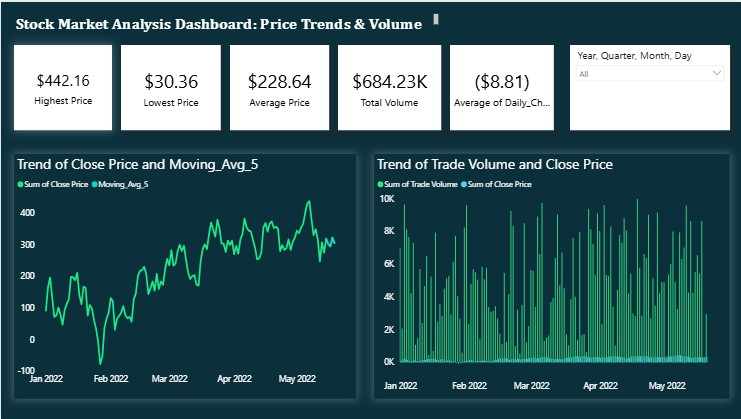

What the dashboard file says about the page in this screenshot:
{"tool":"powerbi","page":{"name":"Page 1","canvas":[1280,720],"ordinal":0},"visuals":[{"type":"textbox","box":[0,16.3,759.2,42.9],"z":0},{"type":"card","fields":{"Values":["Date_Table.Average Price"]},"box":[394.8,74.1,170.7,146.6],"z":1000},{"type":"card","fields":{"Values":["Date_Table.Total Volume"]},"box":[581.6,73.5,177.6,146.9],"z":2000},{"type":"card","fields":{"Values":["Date_Table.Highest Price"]},"box":[22.4,73.5,169.4,146.9],"z":3000},{"type":"card","fields":{"Values":["Date_Table.Lowest Price"]},"box":[206.9,74.1,172.4,146.6],"z":4000},{"type":"slicer","fields":{"Values":["Date_Table.Date.Variation.Date Hierarchy.Year","Date_Table.Date.Variation.Date Hierarchy.Quarter","Date_Table.Date.Variation.Date Hierarchy.Month","Date_Table.Date.Variation.Date Hierarchy.Day"]},"box":[981,74.1,275.9,146.6],"z":5000},{"type":"lineChart","title":"Trend of Close Price and Moving_Avg_5 ","fields":{"Category":["Stock_Prices.Date"],"Y":["Sum(Stock_Prices.Close Price)","Stock_Prices.Moving_Avg_5"]},"box":[21.8,262,589.6,421.6],"z":6000},{"type":"clusteredColumnChart","title":"Trend of Trade Volume and  Close Price ","fields":{"Category":["Stock_Prices.Date"],"Y":["Sum(Stock_Prices.Trade Volume)","Sum(Stock_Prices.Close Price)"]},"box":[643.4,262,613.1,421.6],"z":7000},{"type":"card","fields":{"Values":["Avg(Stock_Prices.Daily_Change)"]},"box":[774.1,74.1,179.3,146.6],"z":8000}]}

Visuals, with their boxes in screenshot pixels (x1, y1, x2, y2), scaled from the page's 1280x720 canvas onto the 741x419 screenshot:
textbox: left=0, top=9, right=440, bottom=34
card - Date_Table.Average Price: left=229, top=43, right=327, bottom=128
card - Date_Table.Total Volume: left=337, top=43, right=440, bottom=128
card - Date_Table.Highest Price: left=13, top=43, right=111, bottom=128
card - Date_Table.Lowest Price: left=120, top=43, right=220, bottom=128
slicer - Date_Table.Date.Variation.Date Hierarchy.Year x Date_Table.Date.Variation.Date Hierarchy.Quarter: left=568, top=43, right=728, bottom=128
"Trend of Close Price and Moving_Avg_5 " lineChart: left=13, top=152, right=354, bottom=398
"Trend of Trade Volume and  Close Price " clusteredColumnChart: left=372, top=152, right=727, bottom=398
card - Avg(Stock_Prices.Daily_Change): left=448, top=43, right=552, bottom=128
